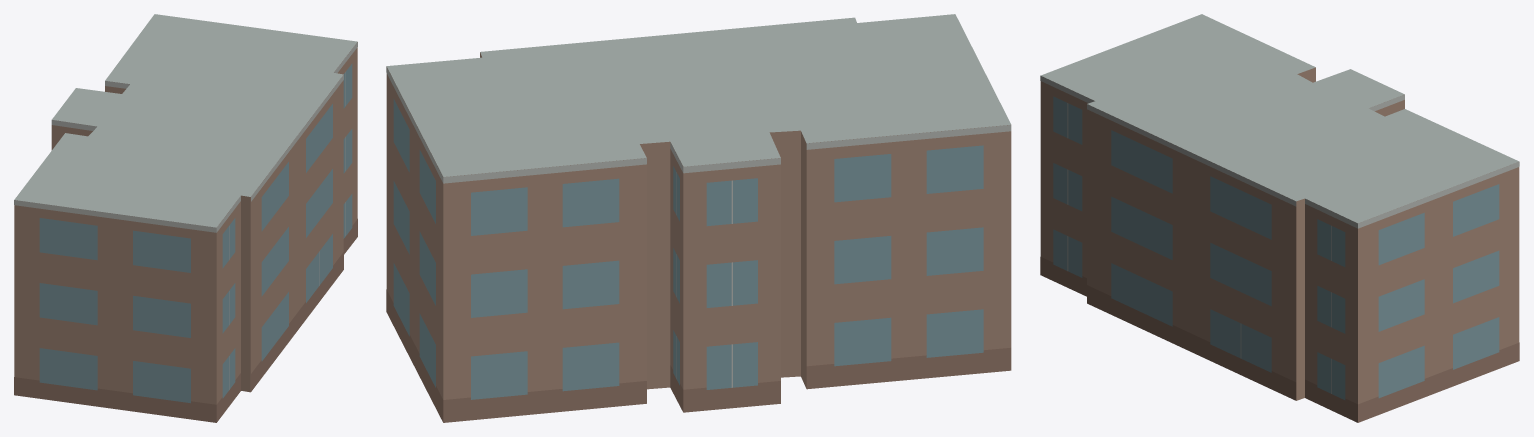
File: survey-upis-32474360.glb
3 renders of one model, left to right at view 1: azimuth 30°, elevation 25°; view 2: azimuth 150°, elevation 25°; view 3: azimuth 270°, elevation 25°, orthographic. The views are drawn at different scales.
Visible parts, largest first — view 1: survey-upis-32474360.tmp; view 2: survey-upis-32474360.tmp; view 3: survey-upis-32474360.tmp.
Part boxes in pixels (x1,y1,x2,y2): survey-upis-32474360.tmp: [14, 14, 357, 422]; survey-upis-32474360.tmp: [386, 14, 1011, 422]; survey-upis-32474360.tmp: [1040, 14, 1519, 422].
Size of the model in its own units: 20.6 by 9.15 by 19.92.
